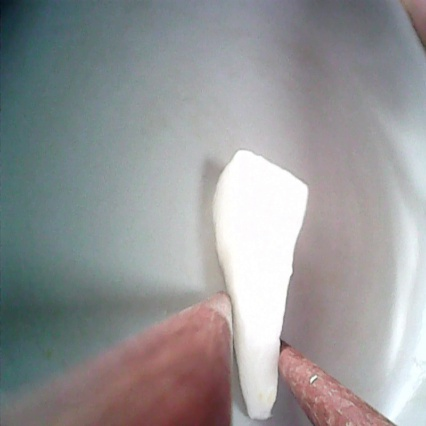white_chinese-yam: (211, 141, 326, 426)
